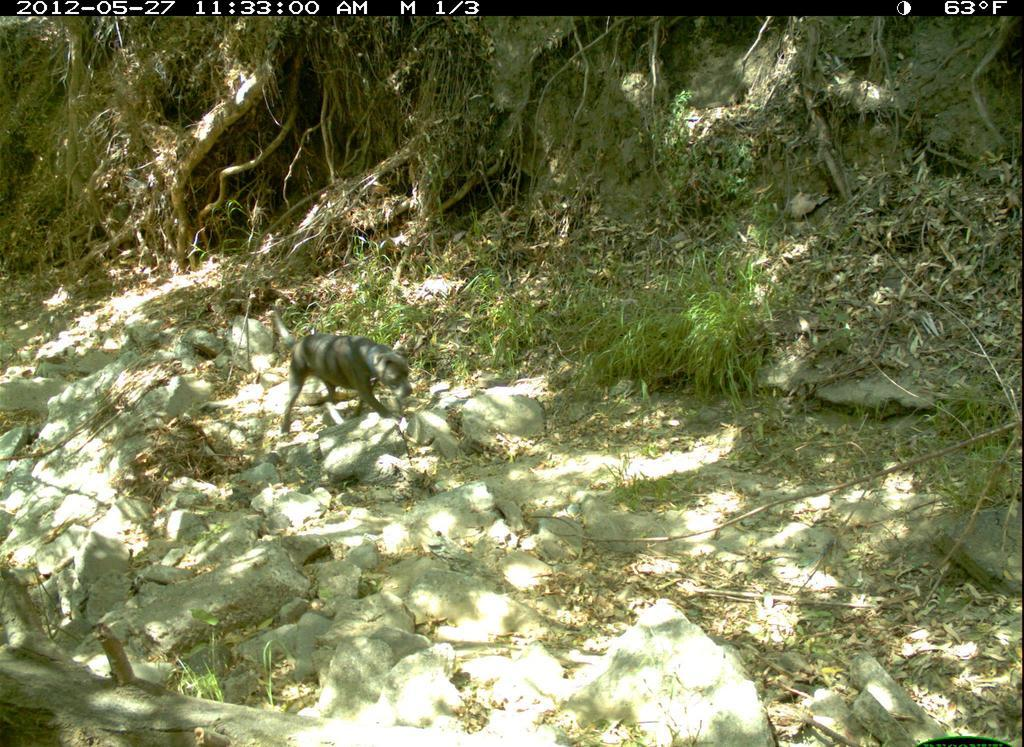dog: (253, 301, 425, 437)
